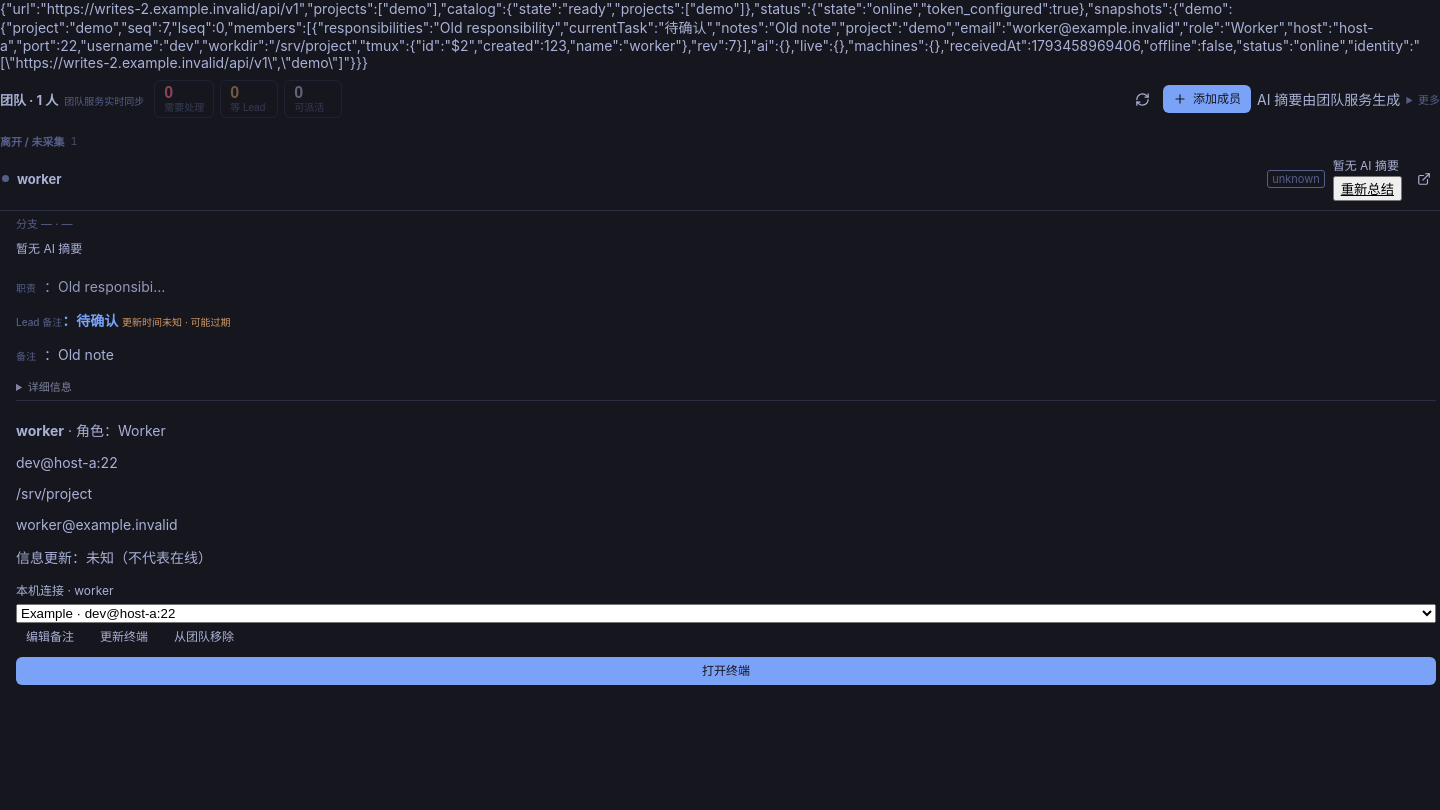
Test: confirms a selected terminal change before PATCH and sends the reviewed revision
The width and height of the screenshot is (1440, 810).
Expected: the button with aria-label "编辑备注 · worker" is shown, [16,623,84,651]
Click the button "更新终端": (124, 637) [90,623,158,651]
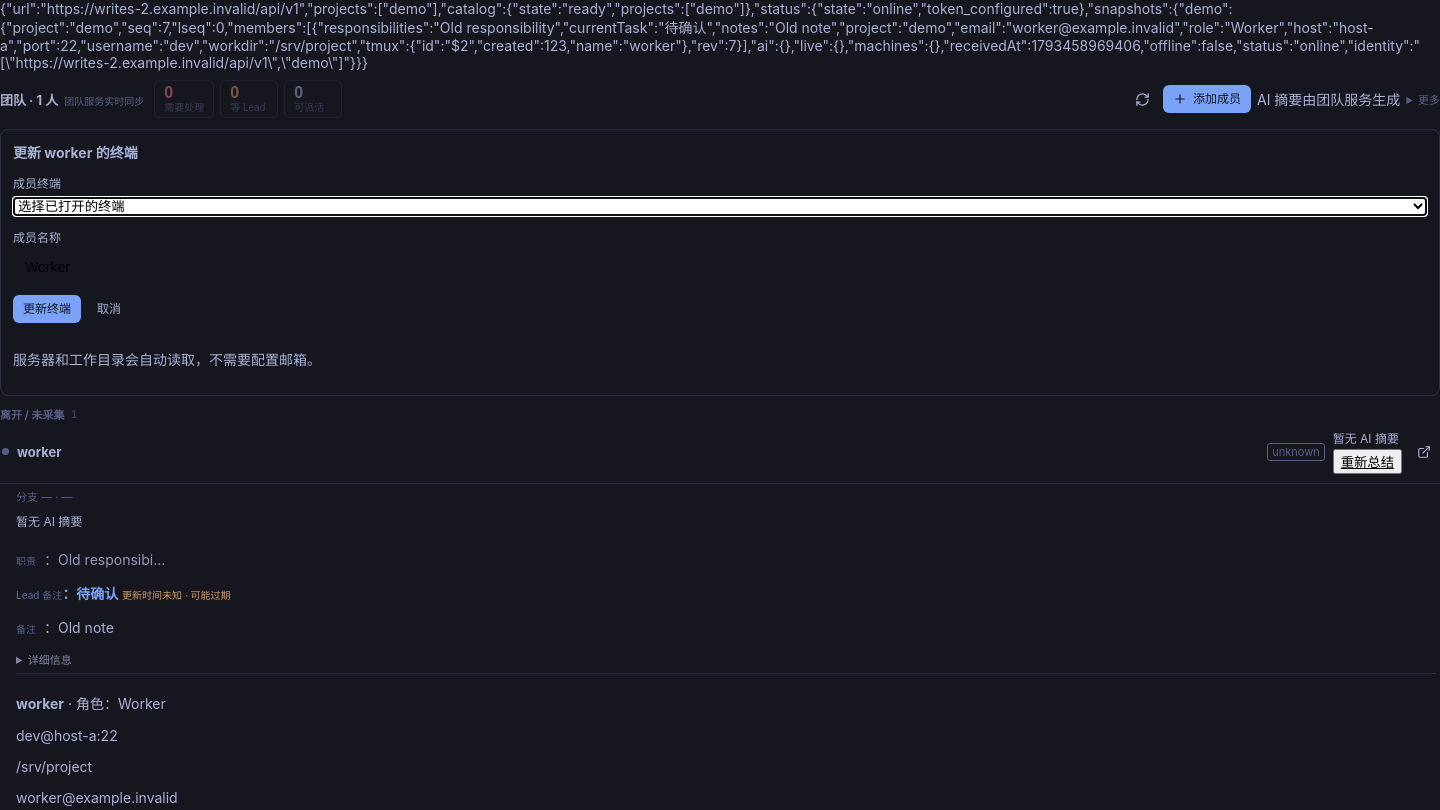
Select "new-worker · Example" in the dropdown labelled "成员终端": (720, 206) [13,197,1427,216]
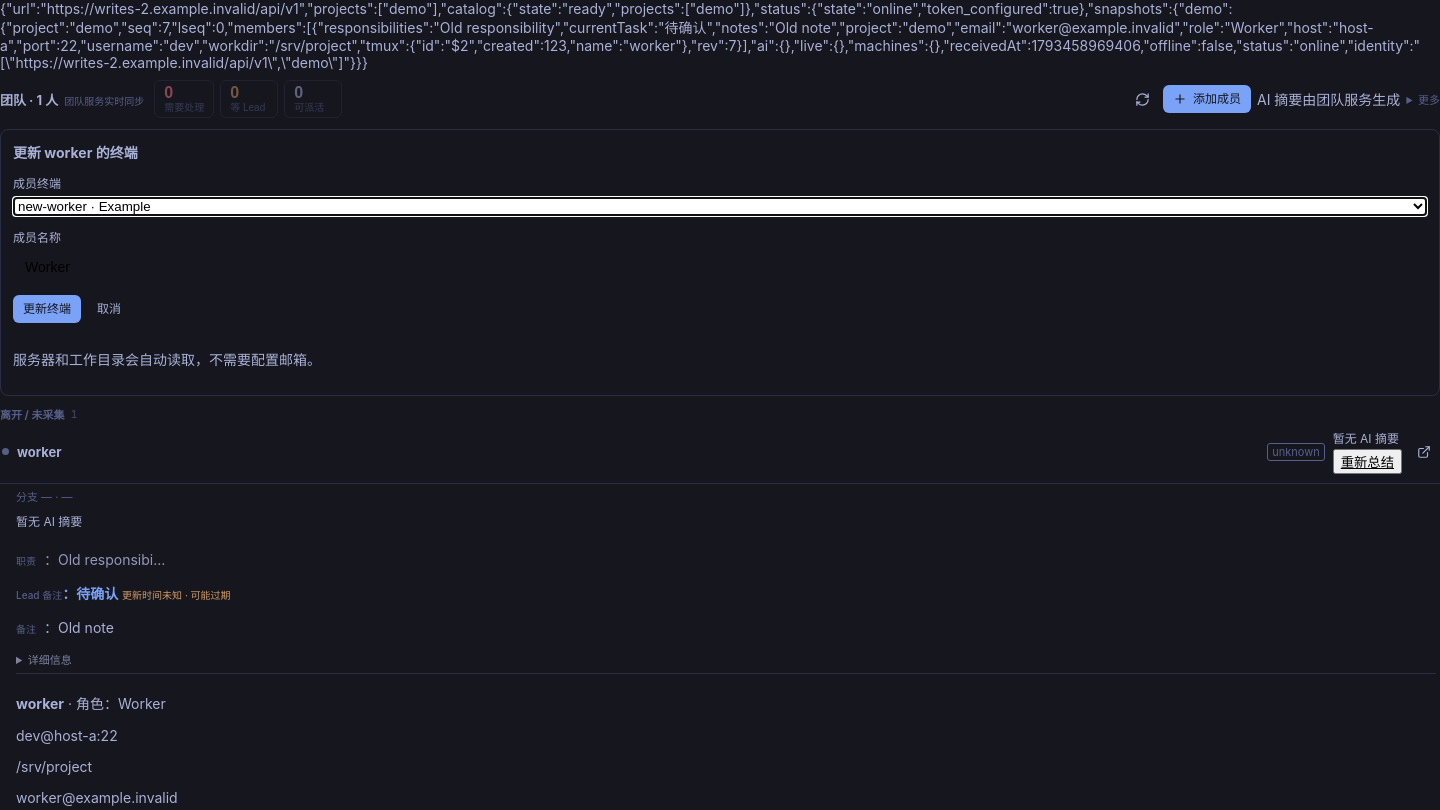
Click the button "更新终端": (47, 309) [13,295,81,323]
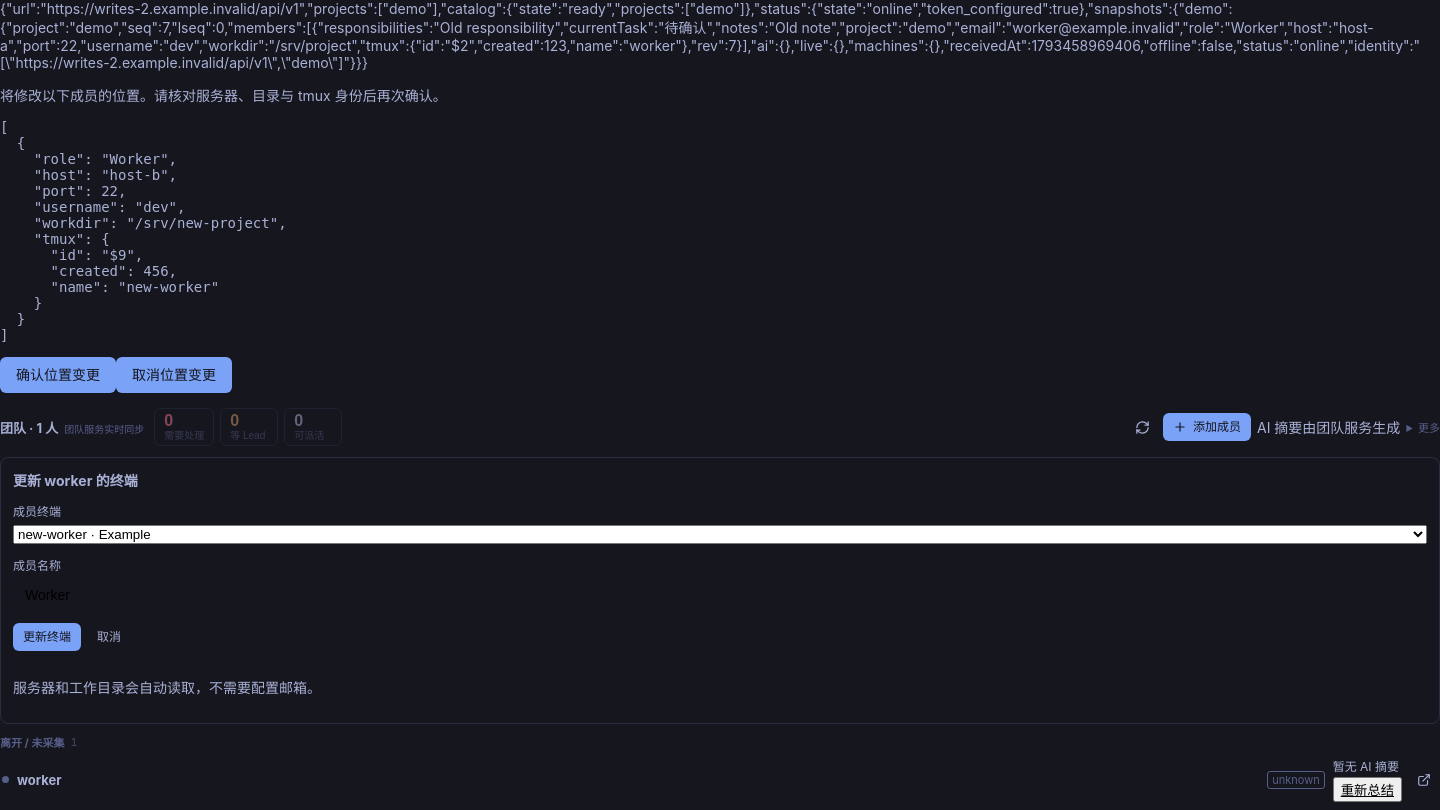
Expected: the dialog named "确认成员位置变更" is shown, [0,87,447,393]
Click the button "确认位置变更": (58, 375) [0,357,116,393]
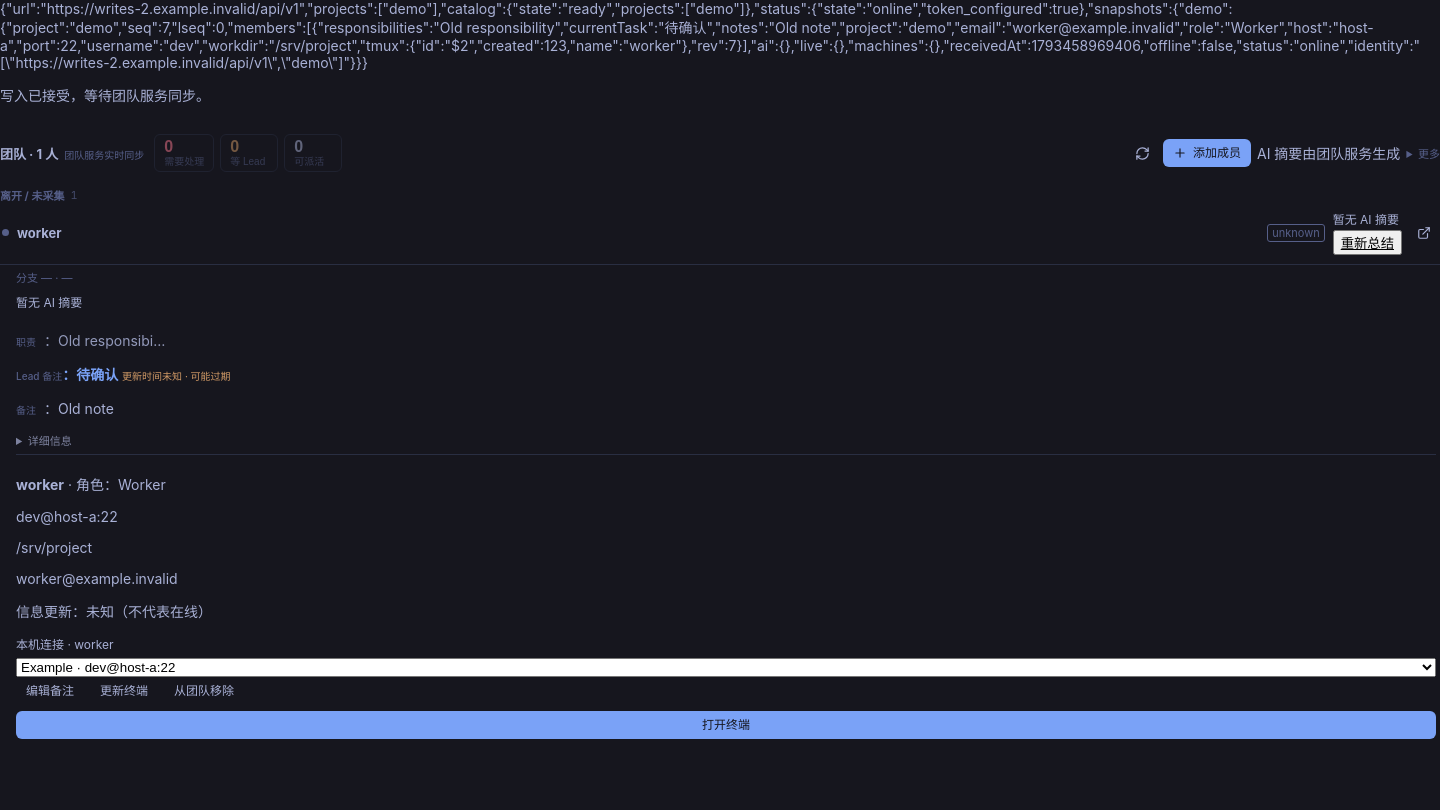
Expected: the text "写入已接受，等待团队服务同步。" is shown, [0,87,210,104]
